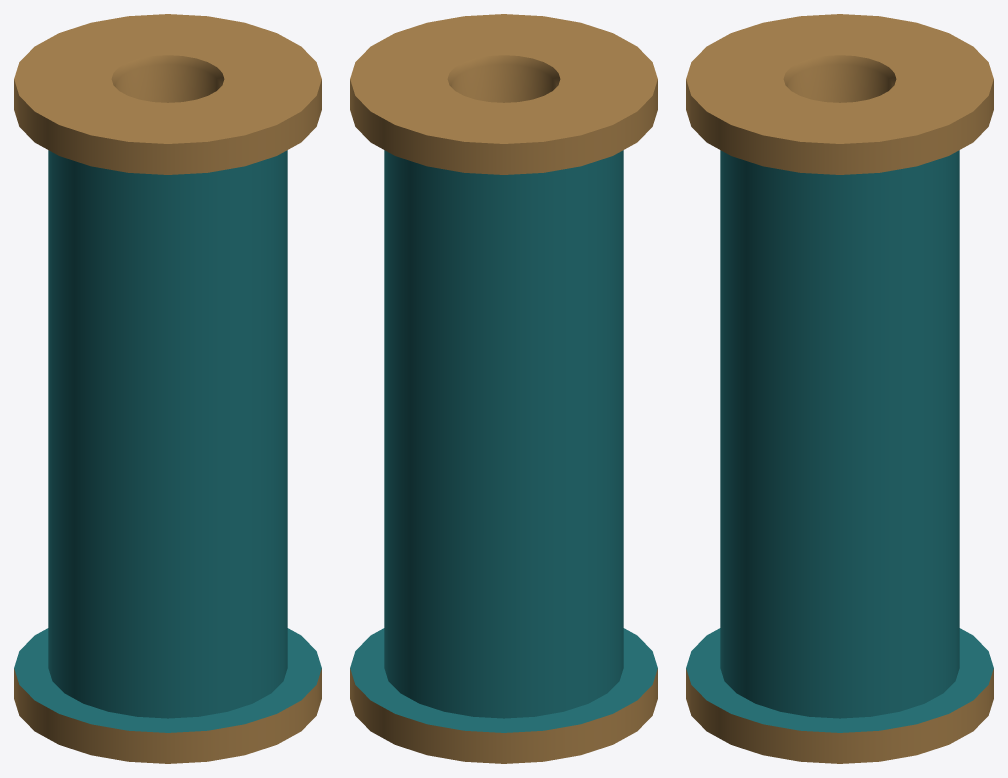
The model's file is VLAB_guide.fbx.
3 views of the same model, side by side, from view 1: azimuth 30°, elevation 25°; view 2: azimuth 150°, elevation 25°; view 3: azimuth 270°, elevation 25° (orthographic).
Parts seen in each view (by area): view 1: VLAB_guide_Housing_VIS; view 2: VLAB_guide_Housing_VIS; view 3: VLAB_guide_Housing_VIS.
Boxes of the visible parts, left/top/right/bottom form: VLAB_guide_Housing_VIS: left=14, top=14, right=321, bottom=763; VLAB_guide_Housing_VIS: left=350, top=14, right=657, bottom=763; VLAB_guide_Housing_VIS: left=686, top=14, right=993, bottom=763.
Bounding box in the file's own units: 0.018 × 0.04 × 0.018.
